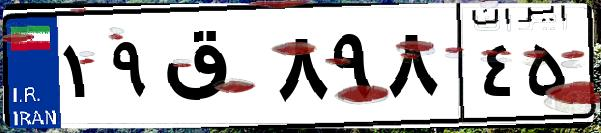1: (57, 26, 110, 100)
4: (475, 38, 525, 113)
5: (525, 38, 570, 115)
8: (270, 28, 330, 110), (385, 28, 445, 110)
9: (330, 28, 385, 110), (110, 28, 158, 98)
ق: (158, 20, 270, 120)
